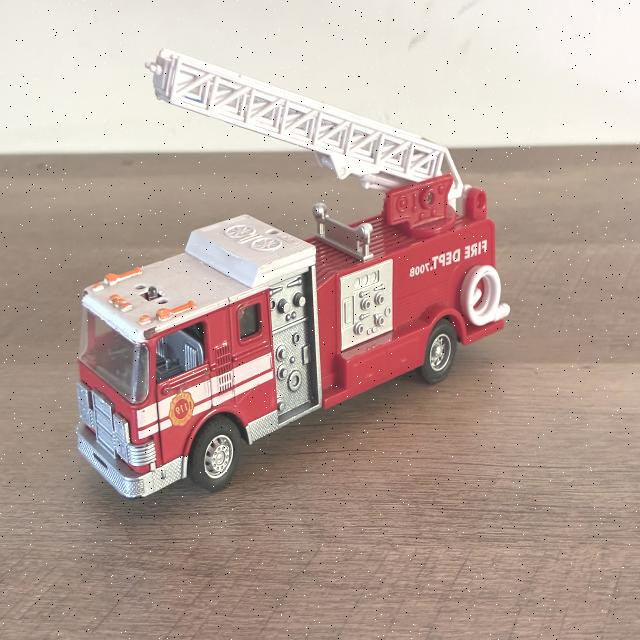fire-truck: (77, 50, 509, 497)
